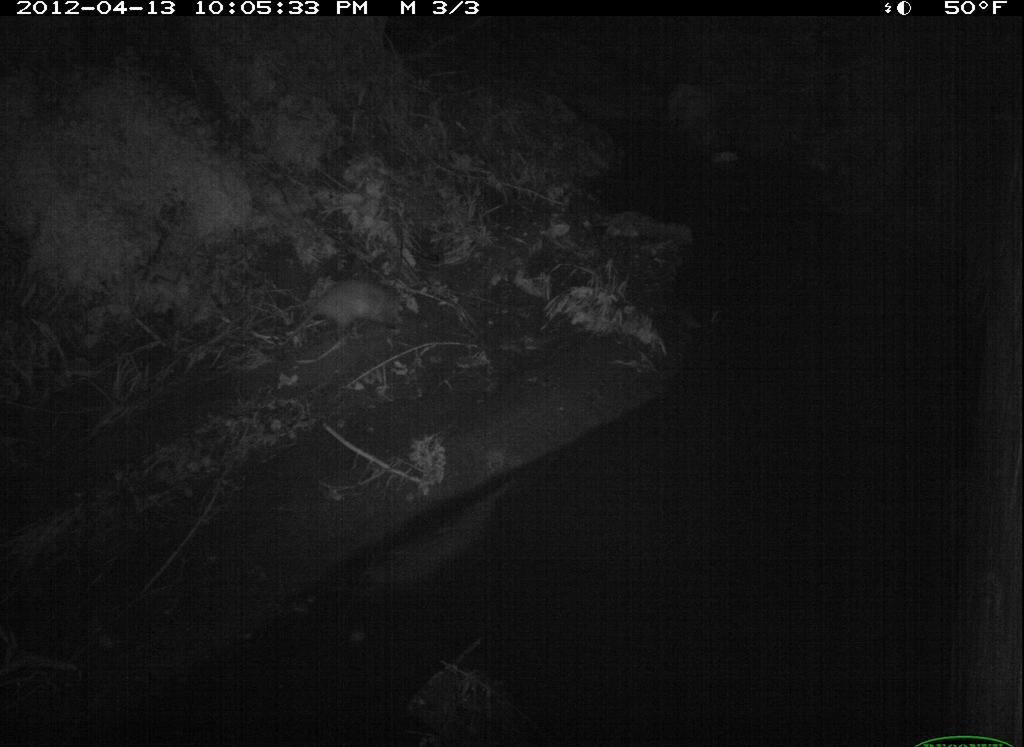opossum: (269, 262, 415, 373)
